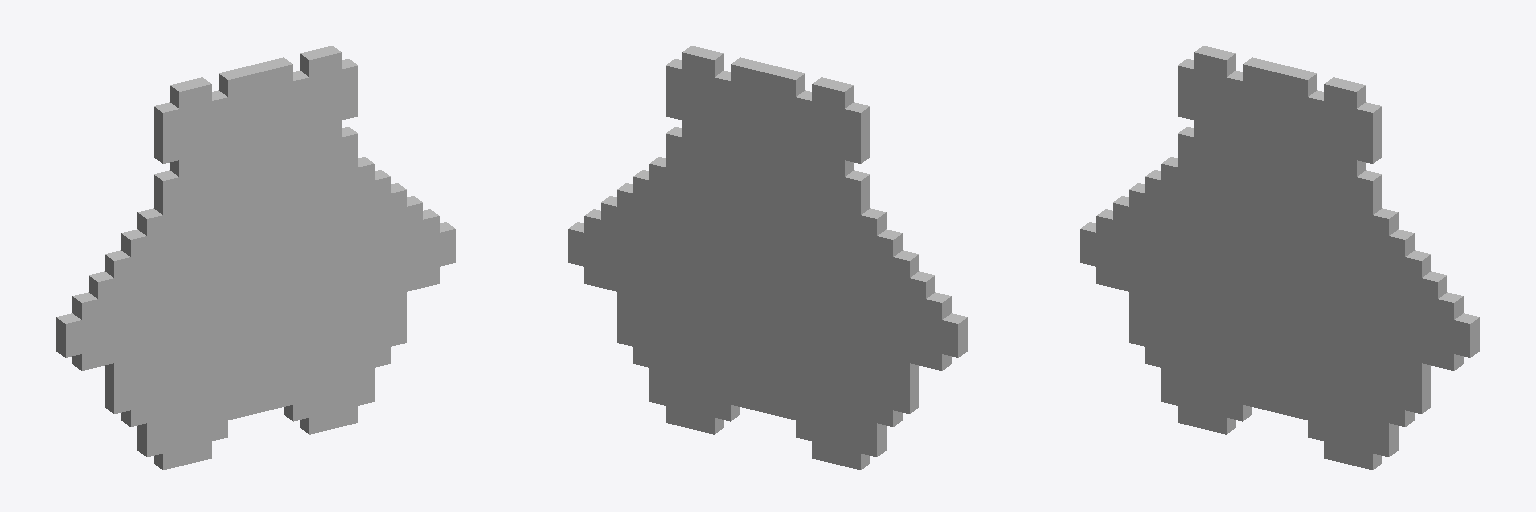
The model's file is bear walk 1.obj.
The picture shows the model from 3 angles: view 1: azimuth 30°, elevation 25°; view 2: azimuth 150°, elevation 25°; view 3: azimuth 330°, elevation 25°; orthographic projection.
Parts seen in each view (by area): view 1: object 1; view 2: object 1; view 3: object 1.
Part boxes in pixels (x1,y1,x2,y2): object 1: (56,46,455,469); object 1: (568,46,967,469); object 1: (1080,46,1479,469).
Size of the model in its own units: 2.4 by 2.2 by 0.1.